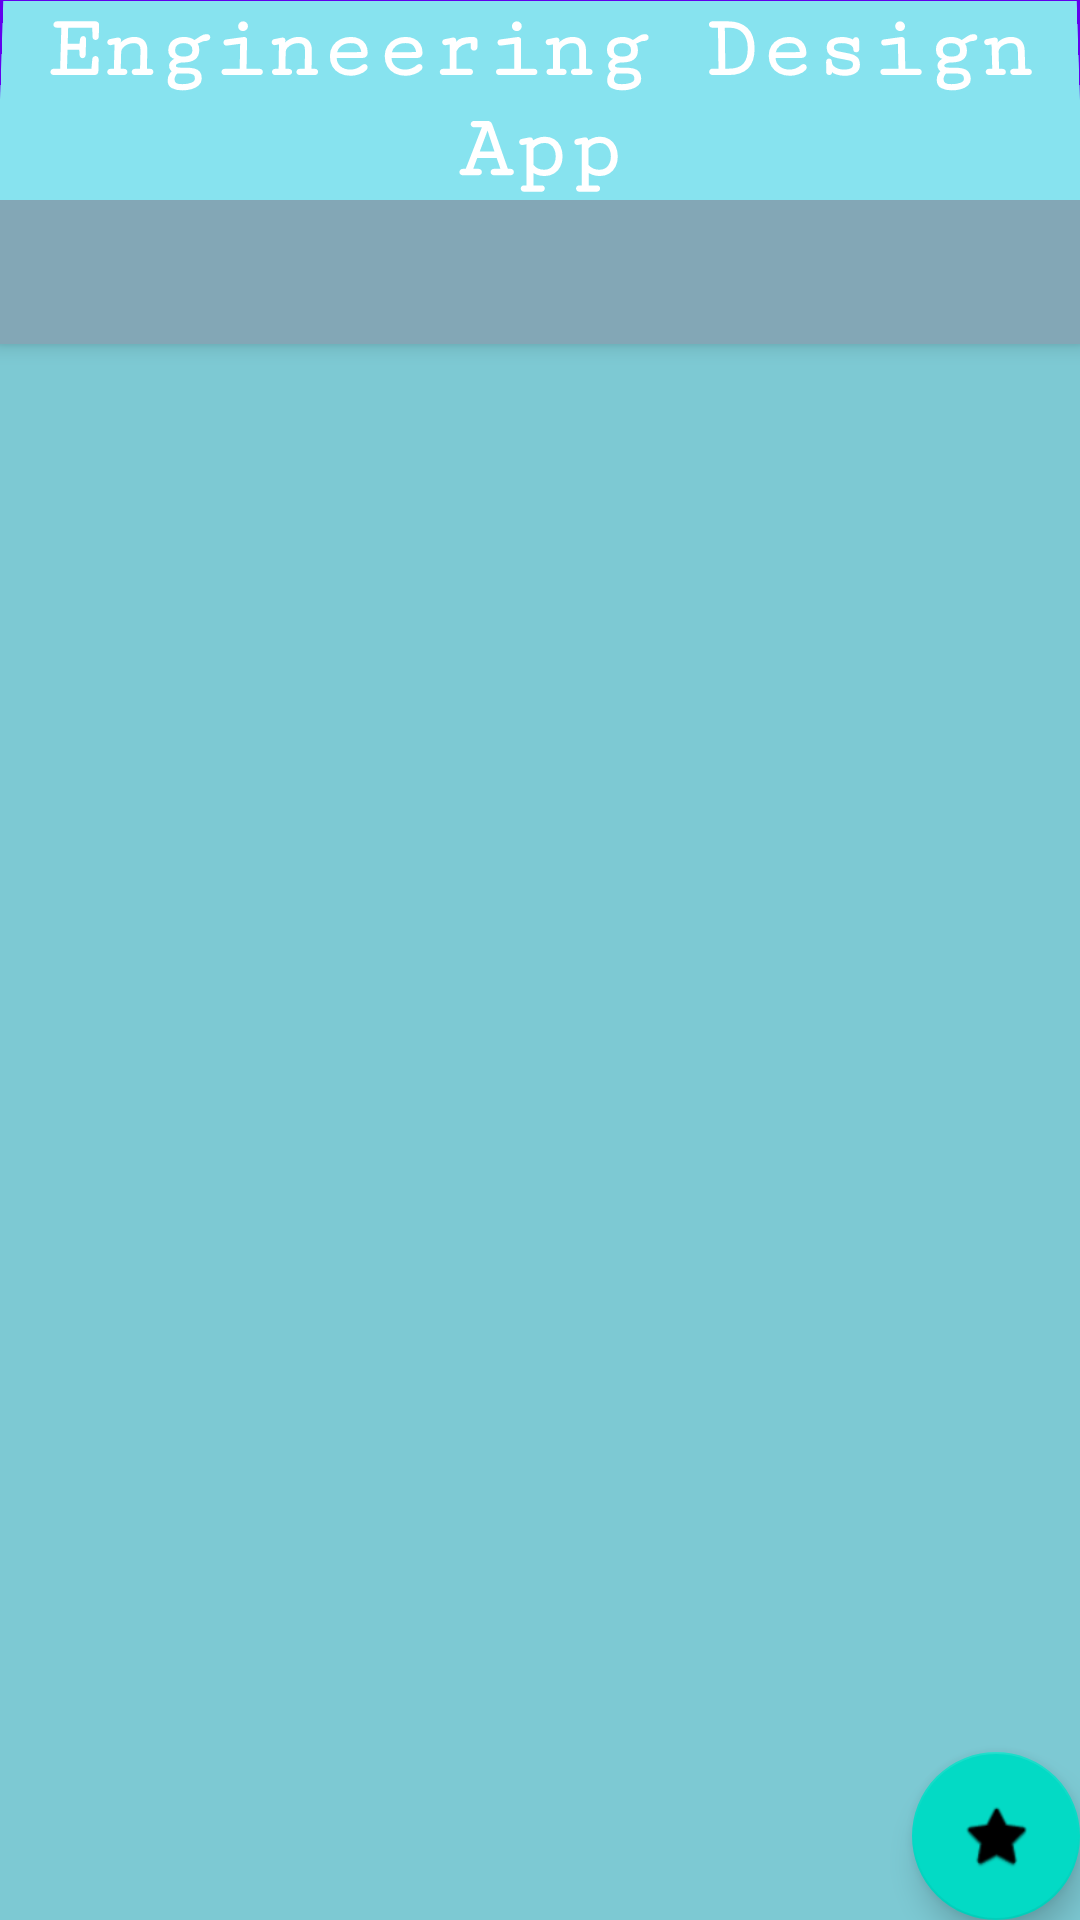

Where to tap for icons on this 1080px×1920px app screen, as [x,y]:
star: [996,1836]
